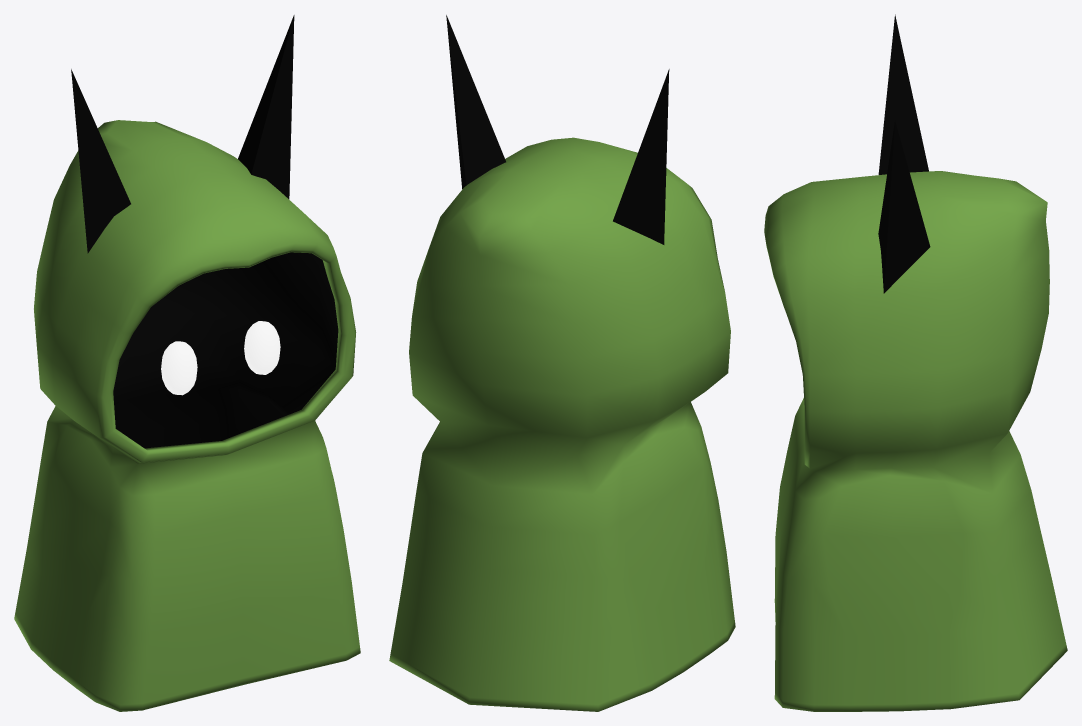
The model's file is chewingcharacter.glb.
3 renders of one model, left to right at view 1: azimuth 30°, elevation 25°; view 2: azimuth 150°, elevation 25°; view 3: azimuth 270°, elevation 25°, orthographic. The views are drawn at different scales.
Parts seen in each view (by area): view 1: man; view 2: man; view 3: man.
Part boxes in pixels (x1=…): man: x1=14, y1=15, x2=360, y2=711; man: x1=389, y1=15, x2=735, y2=711; man: x1=764, y1=14, x2=1067, y2=711.
Bounding box in the file's own units: 1.7 × 3.71 × 1.74.
